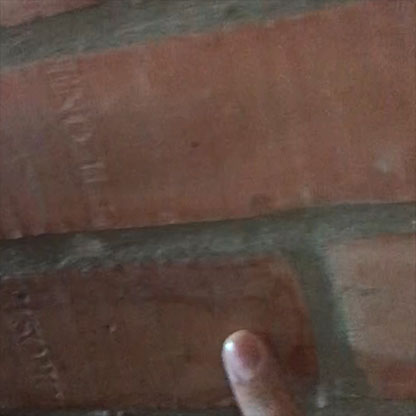fingertip: (214, 326, 277, 392)
